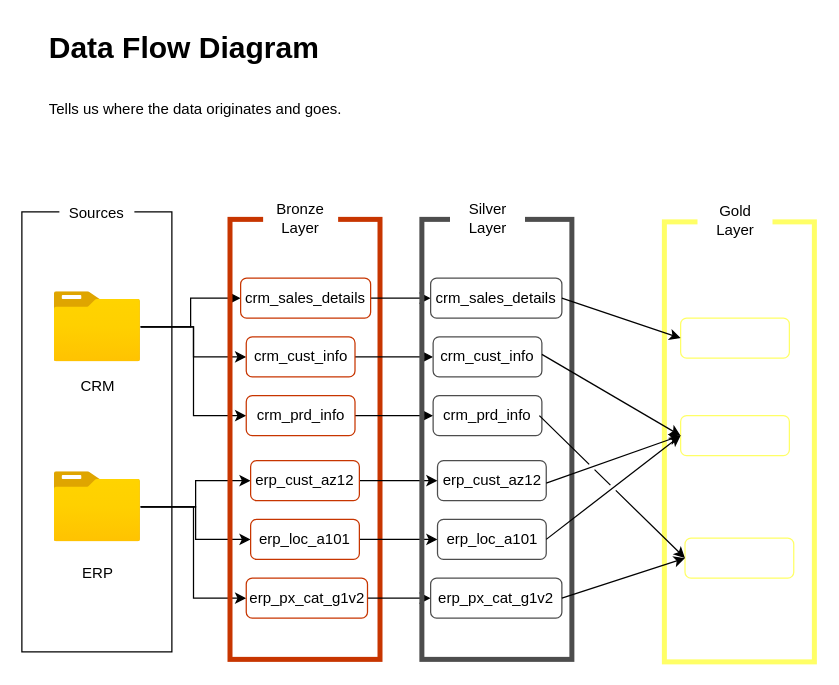
Image size: 839x685. Some labels were removed from this diagram. The centre of each missing label's shape, as x and y in pixels:
"dim_customers" goes at point 734,435.
"dim_products" goes at point 739,557.
"fact_sales" goes at point 734,337.
